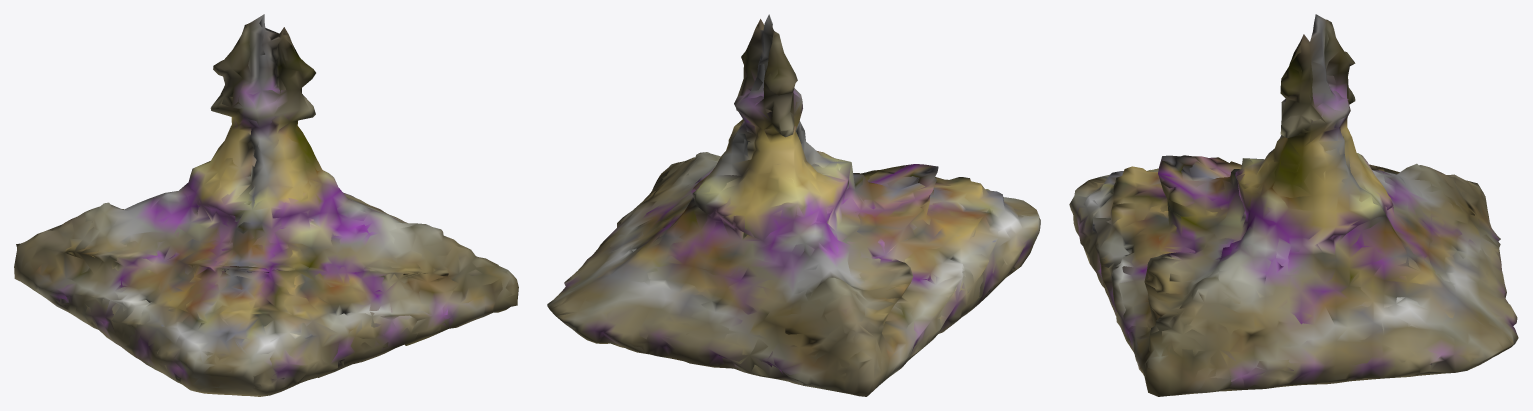
Rendered from yuri_genetic_mutator.glb.
The picture shows the model from 3 angles, left to right: view 1: azimuth 30°, elevation 25°; view 2: azimuth 150°, elevation 25°; view 3: azimuth 270°, elevation 25°; orthographic projection. The views are drawn at different scales.
Parts seen in each view (by area): view 1: yuri_genetic_mutator; view 2: yuri_genetic_mutator; view 3: yuri_genetic_mutator.
Part boxes in pixels (x1,y1,x2,y2): yuri_genetic_mutator: (14,14,518,396); yuri_genetic_mutator: (547,14,1040,396); yuri_genetic_mutator: (1069,14,1518,396).
Size of the model in its own units: 1.79 by 1.34 by 1.85.
